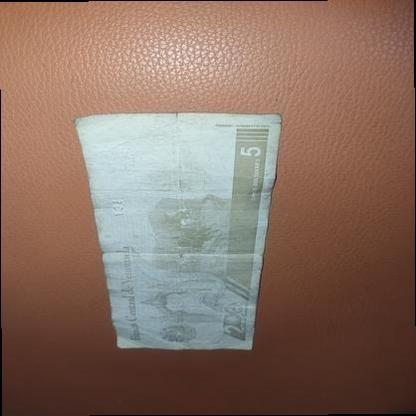five-back-vef: (72, 112, 280, 350)
